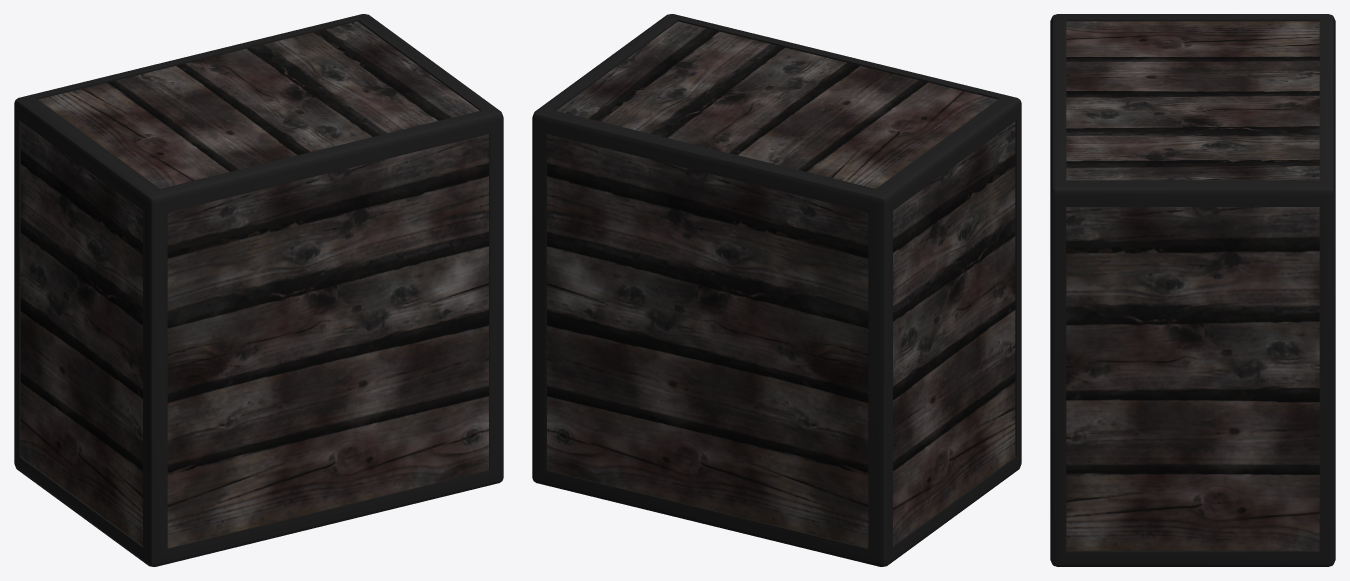
Rendered from kibako1.fbx.
The picture shows the model from 3 angles, left to right: view 1: azimuth 30°, elevation 25°; view 2: azimuth 150°, elevation 25°; view 3: azimuth 270°, elevation 25°; orthographic projection. The views are drawn at different scales.
Visible parts, largest first — view 1: pCube12; view 2: pCube12; view 3: pCube12.
Part boxes in pixels (x1,y1,x2,y2): pCube12: [14, 14, 503, 566]; pCube12: [532, 14, 1021, 566]; pCube12: [1050, 14, 1335, 566].
Size of the model in its own units: 121 by 121 by 82.1.
